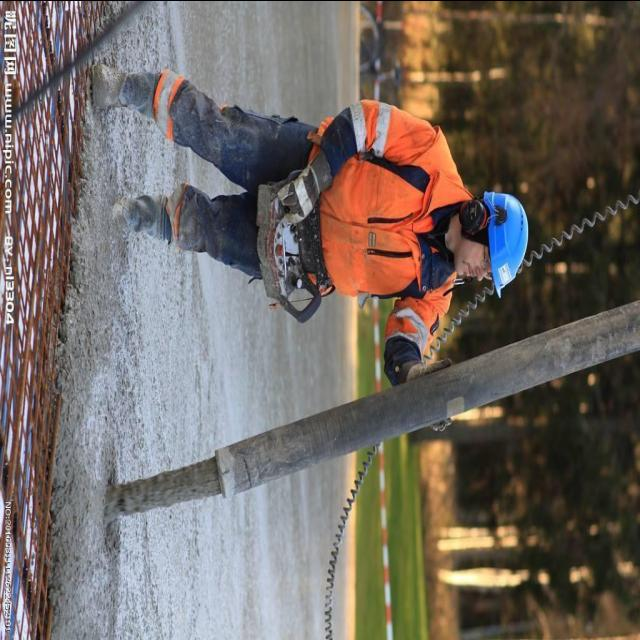helmet: (482, 168, 540, 296)
jacket: (289, 91, 462, 349)
